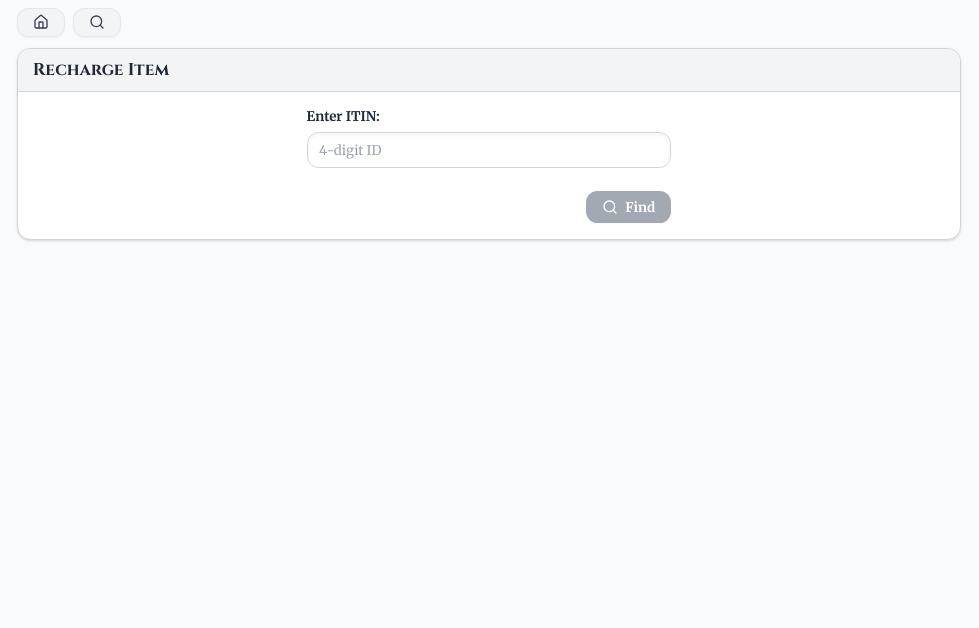
Test case: RechargeItem Page › searches and displays item details
Step 1. Type "1234" into the field with placeholder "4-digit ID" → (489, 150), box [307,132,671,168]
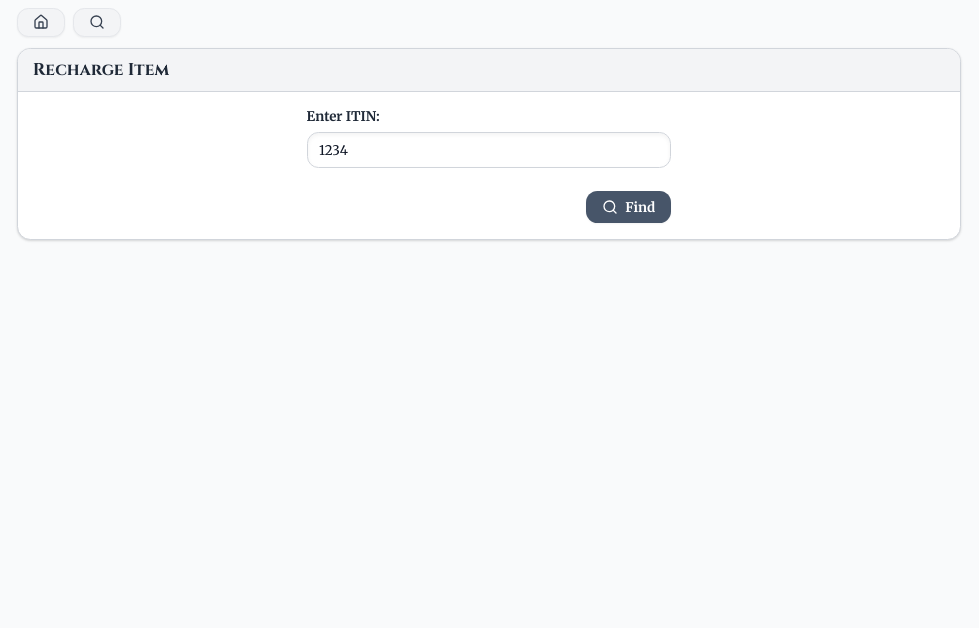
Step 2. Click the button "Find" → (628, 207), box [586,191,671,223]
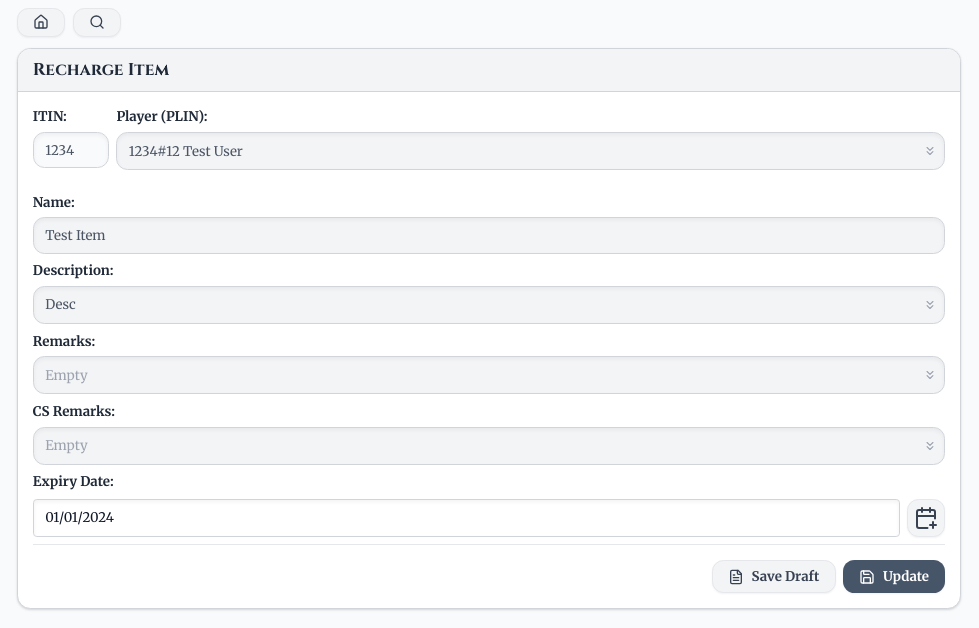
Expected: the field showing "Test Item" below "Name" is shown, [33,218,945,254]
Expected: the button "Save Draft" is shown, [712,560,836,593]
